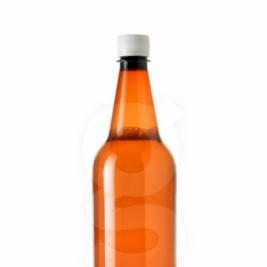beer: (92, 35, 178, 267)
